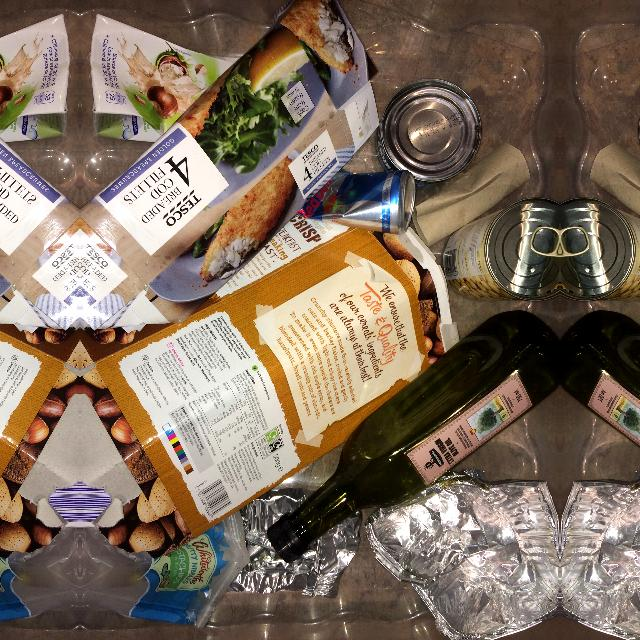Metal: (359, 459, 559, 639), (429, 188, 559, 302), (561, 459, 640, 639), (370, 74, 486, 194), (561, 188, 640, 302)
Plastic: (80, 197, 452, 628), (0, 196, 80, 627)
